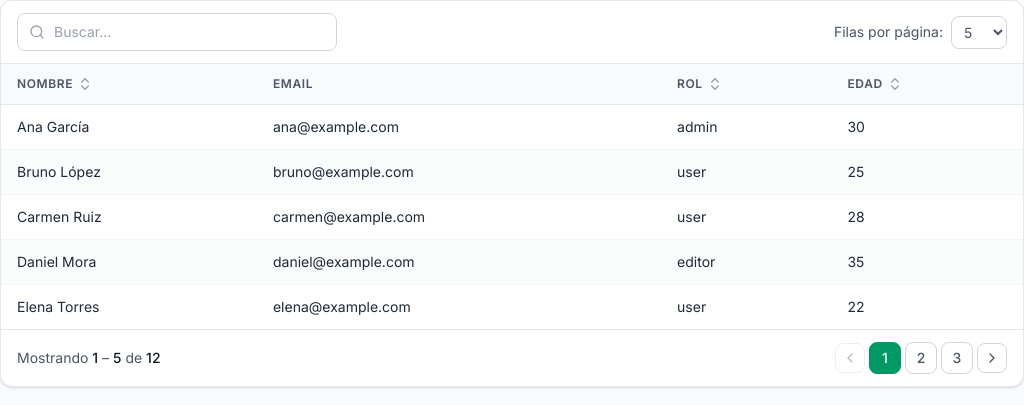
DataTable — Paginación › retrocede a la página anterior al hacer clic en 'anterior'
This screenshot has width=1024, height=405.
# Ir a página 2.
Click the button named "página siguiente". click: (992, 358)
box: [977,343,1007,373]
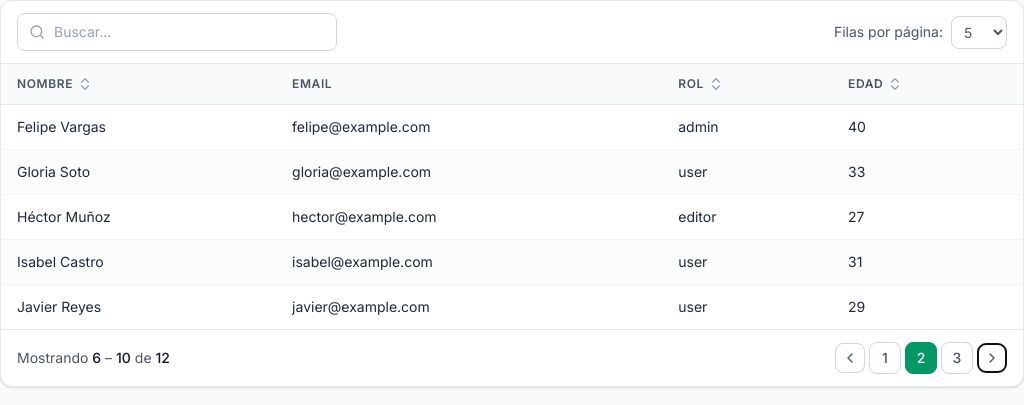
# Volver a página 1.
Click the button named "página anterior". click: (850, 358)
box: [835,343,865,373]
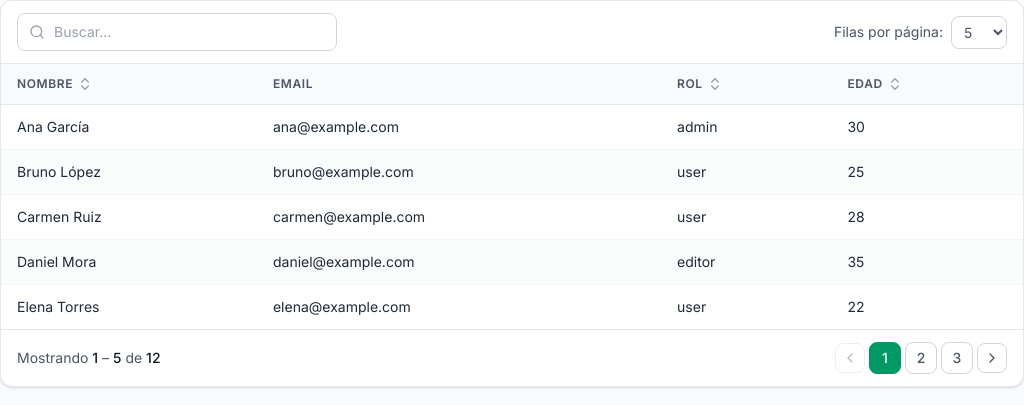
Now the text "Ana García" is shown, box [1,104,257,150]
